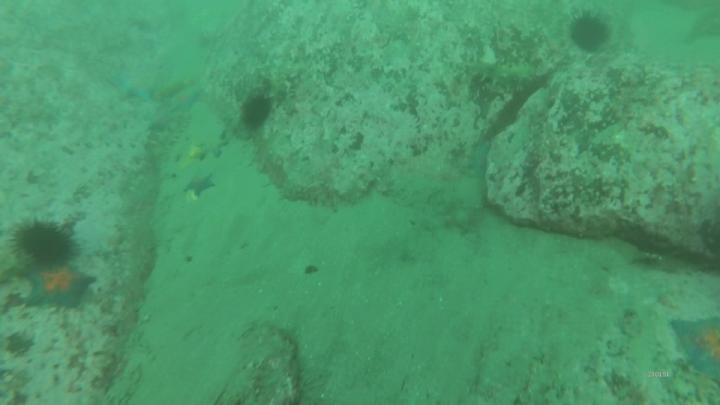echinus: (16, 227, 77, 267), (575, 17, 610, 51), (242, 99, 271, 130)
holothurian: (458, 59, 536, 91)
starfish: (673, 317, 720, 385), (24, 269, 95, 309), (111, 67, 161, 105), (172, 89, 199, 114), (186, 174, 216, 196)
